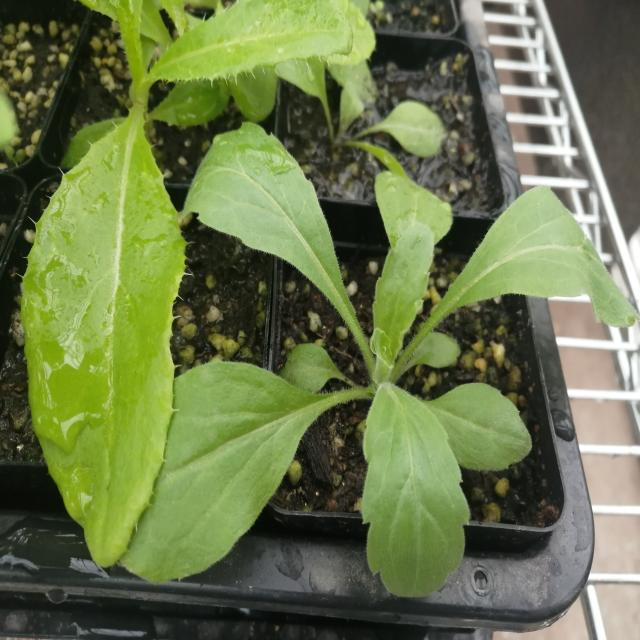horseweed: (166, 126, 629, 557)
